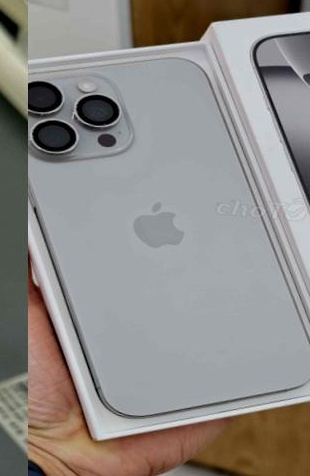scratch: (63, 103, 86, 129), (36, 110, 49, 121), (28, 131, 33, 144)
